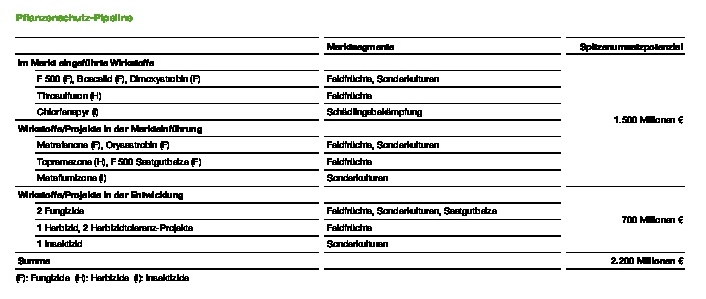table: (0, 0, 706, 299)
